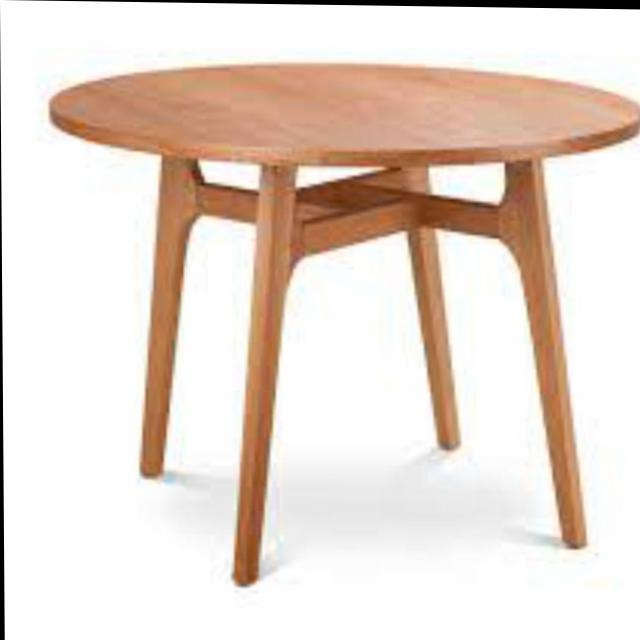Table: (36, 32, 640, 581)
